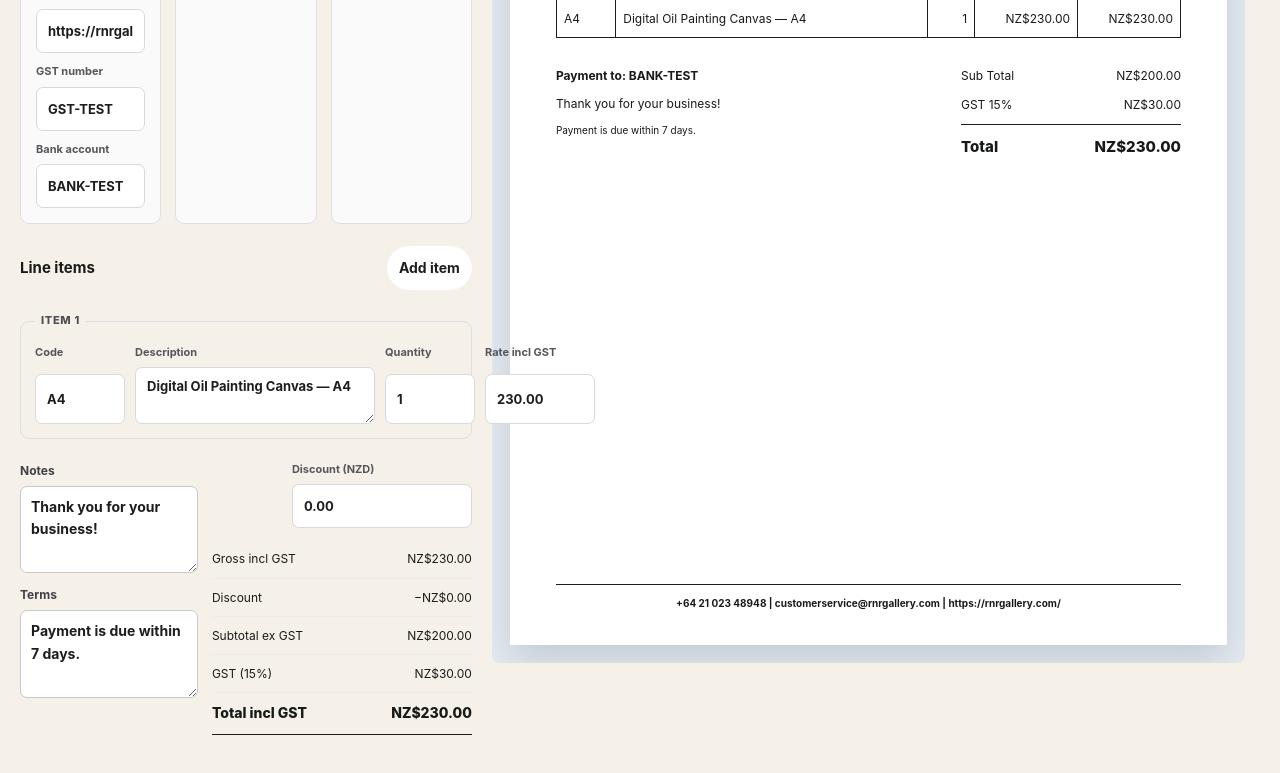
Test: InvoicePanel › allows complete invoice money entry and pads two decimals only on blur
(page scrolled)
Replace the text in the field named "Item 1 rate incl GST" with "150" at (540, 399), box 485,374 -> 595,424
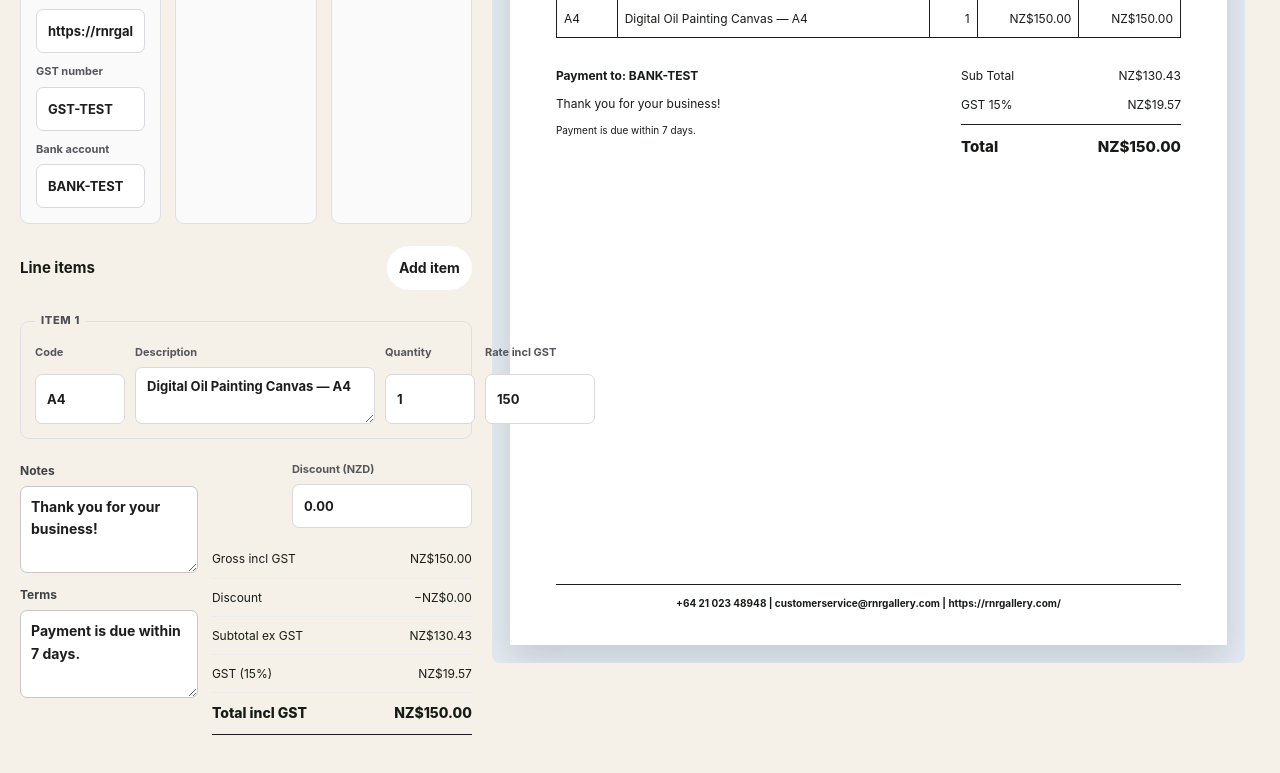
Leave the field named "Item 1 rate incl GST", box 485,374 -> 595,424
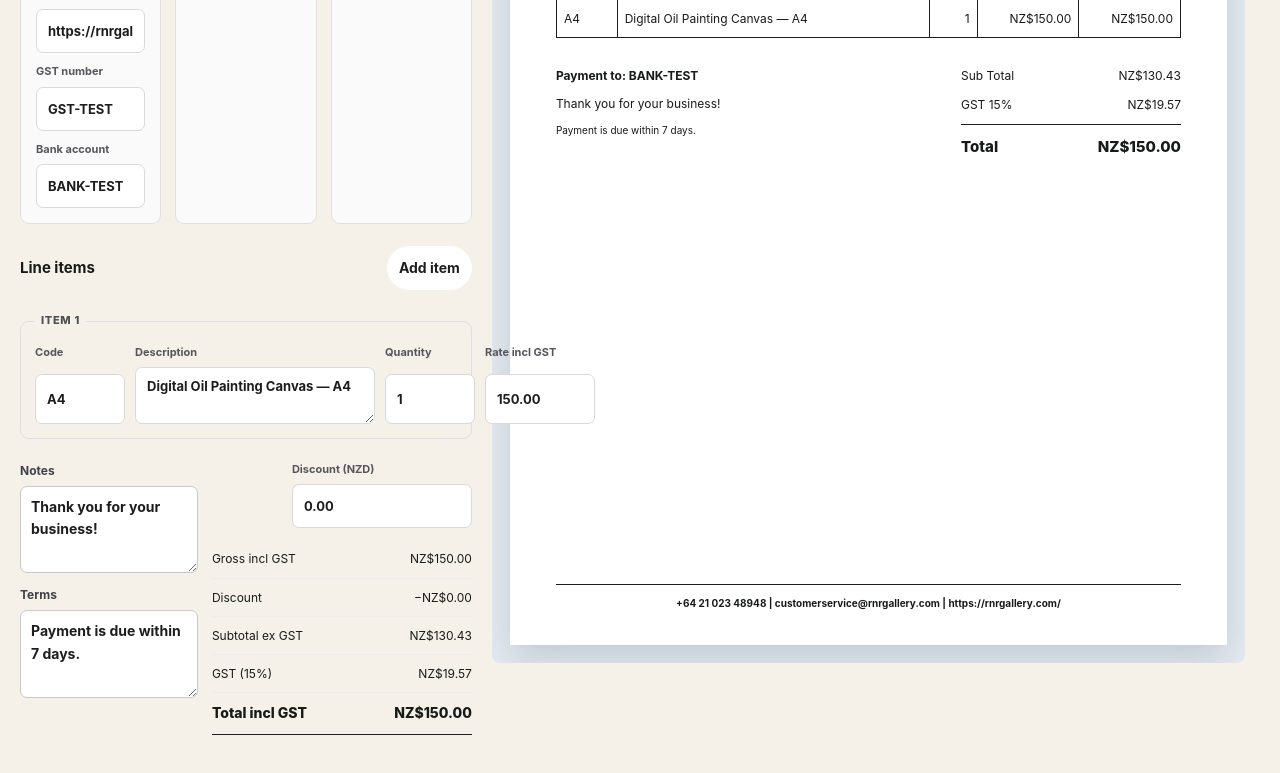
Check: the field named "Item 1 rate incl GST" holds "150.00", box 485,374 -> 595,424
Replace the text in the field labelled "Discount (NZD)" with "5" at (382, 506), box 292,484 -> 472,528
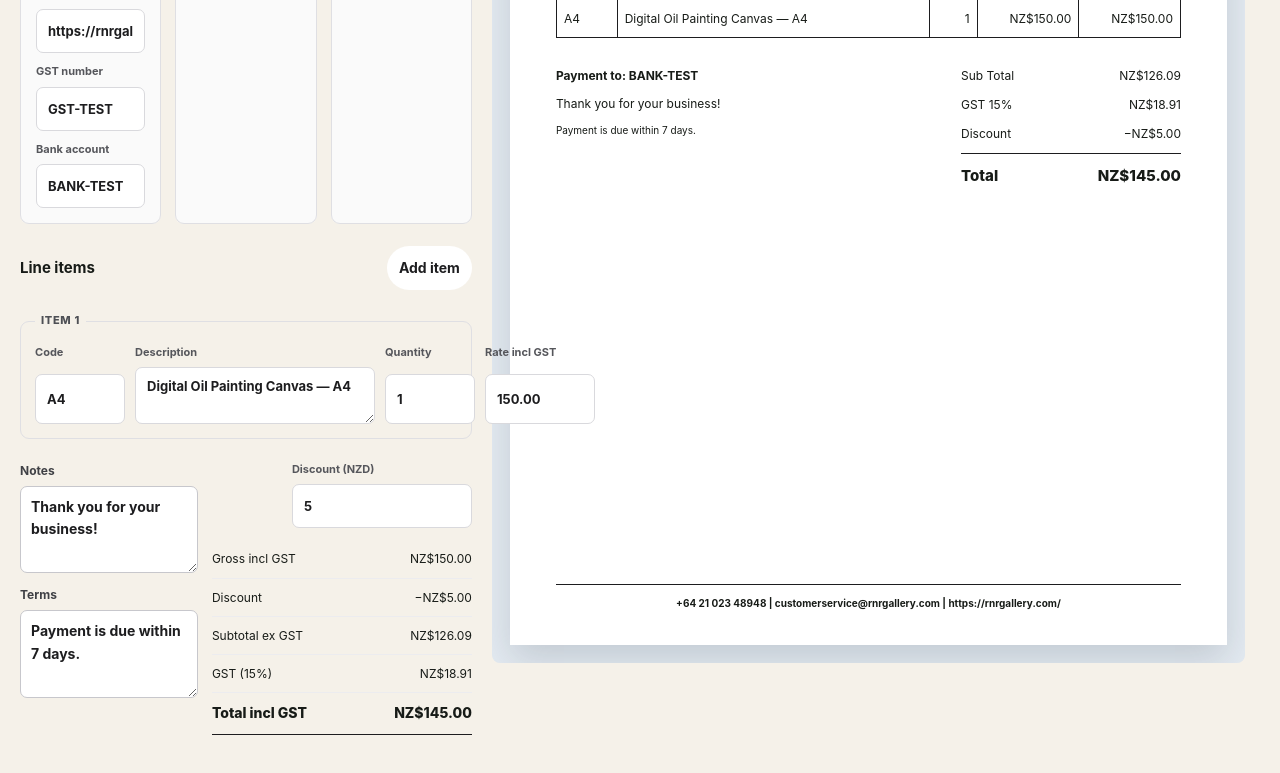
Leave the field labelled "Discount (NZD)", box 292,484 -> 472,528
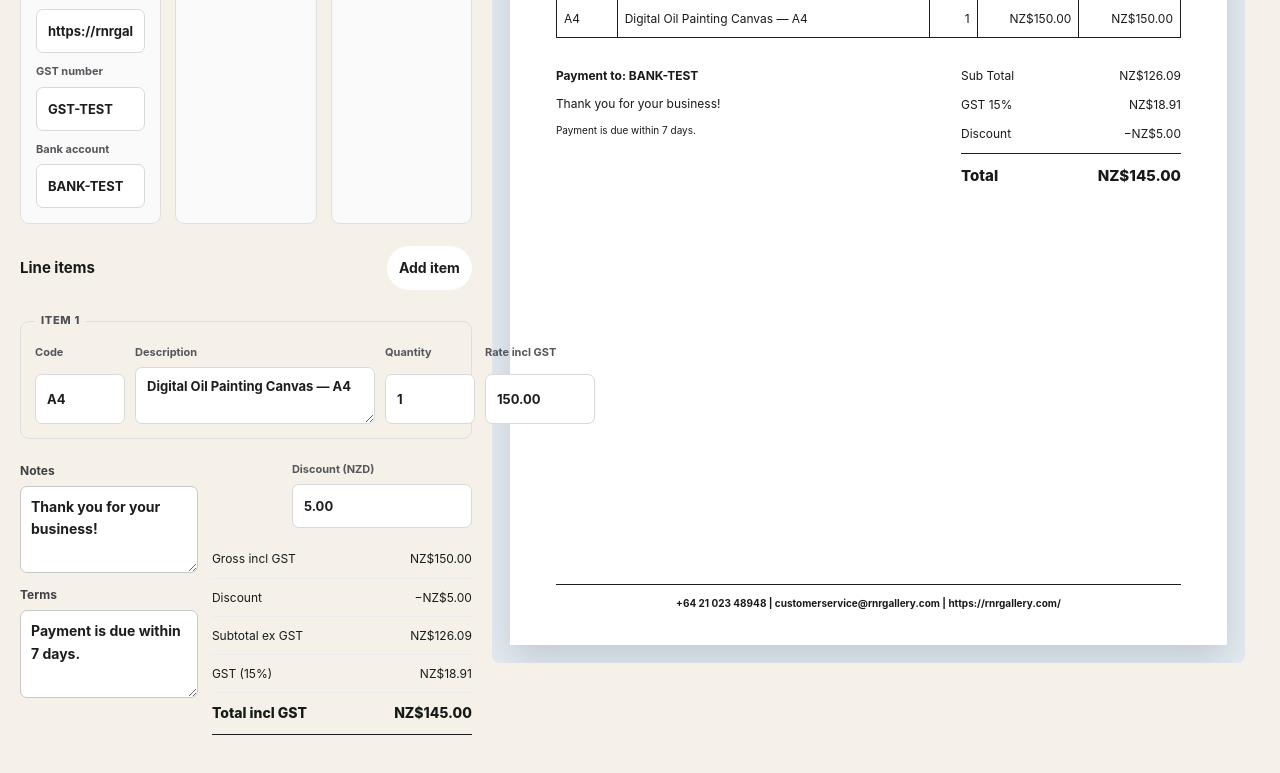
Check: the field labelled "Discount (NZD)" holds "5.00", box 292,484 -> 472,528
